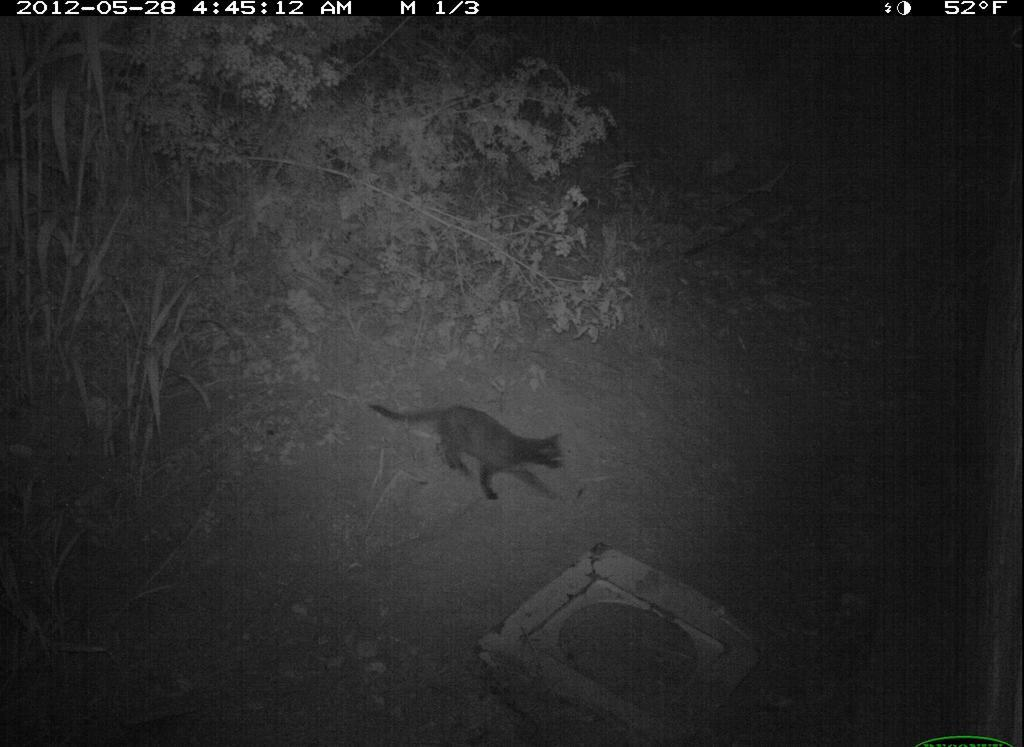cat: (347, 382, 594, 519)
